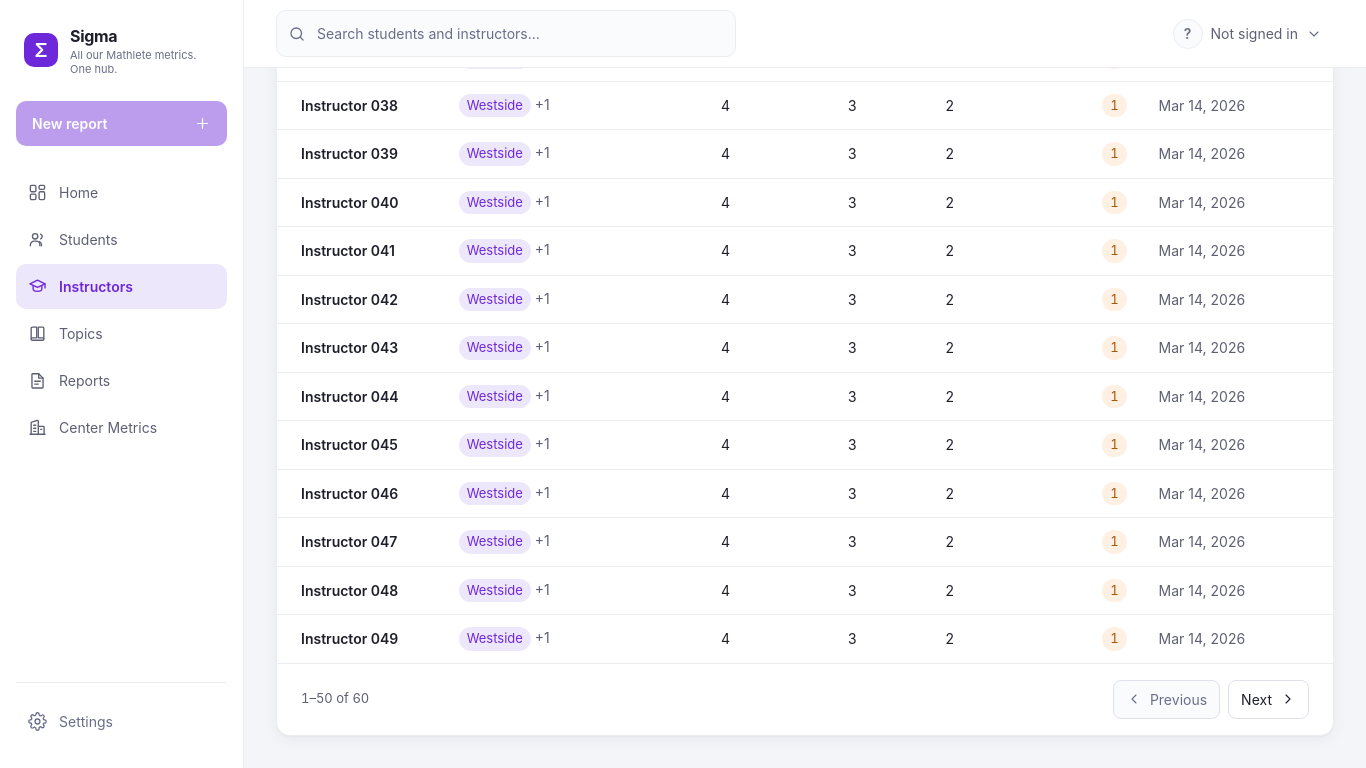
it: instructors page › pages through the URL
The image size is (1366, 768).
(page scrolled)
Check: the text "1–50 of 60" is shown, box top-left (301, 689), bottom-right (369, 709)
What coordinates should you click on to do the following:
click the button "Next"
I would click on:
 (1269, 699)
Its box is top-left (1228, 680), bottom-right (1309, 718).
(page scrolled)
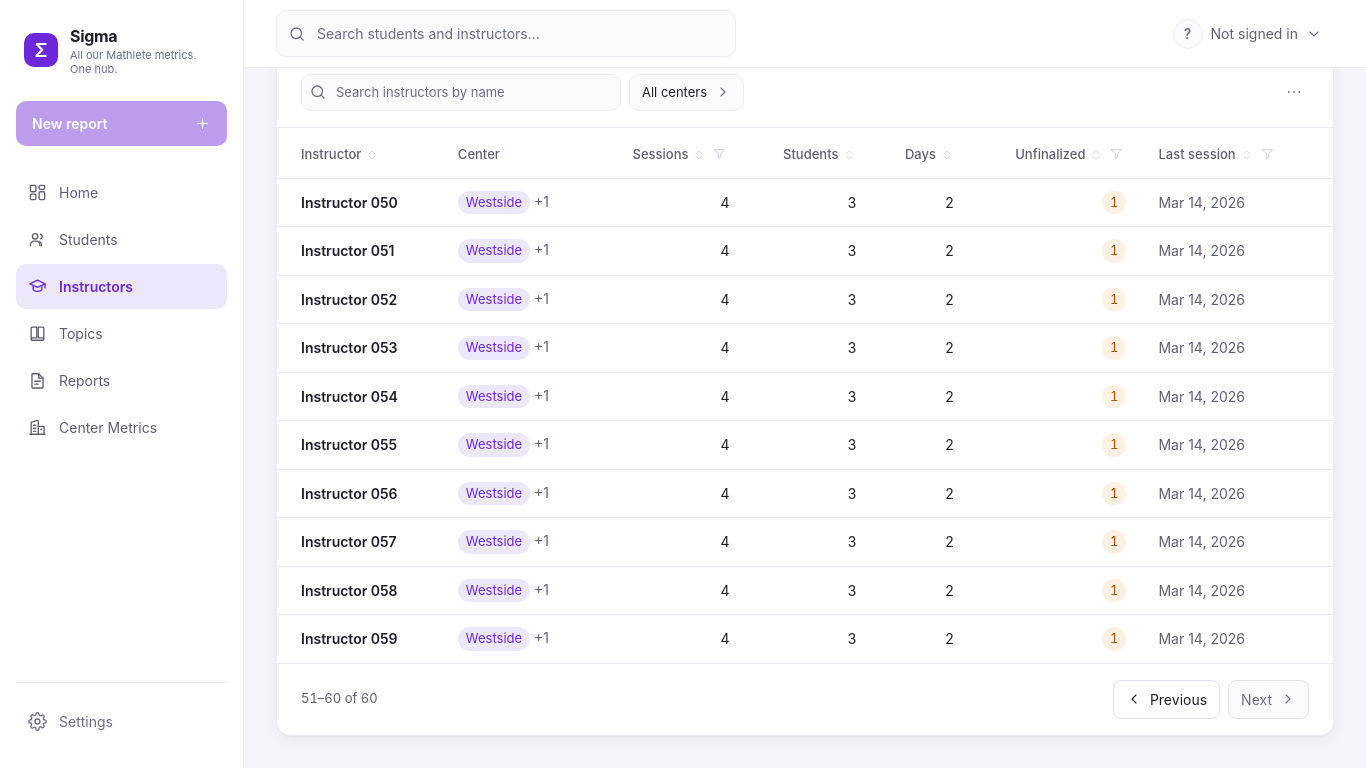
Check: the text "51–60 of 60" is shown, box top-left (301, 689), bottom-right (378, 709)
Check: the button "Next" is disabled, box top-left (1228, 680), bottom-right (1309, 718)
